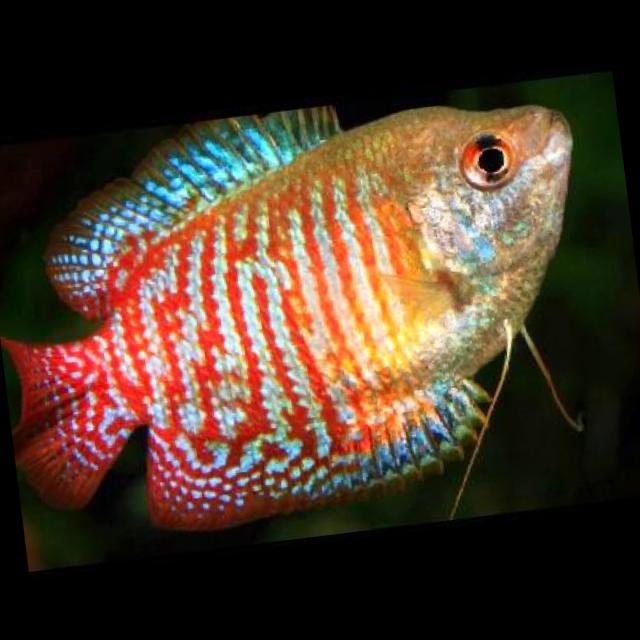Gourami: (0, 75, 606, 541)
